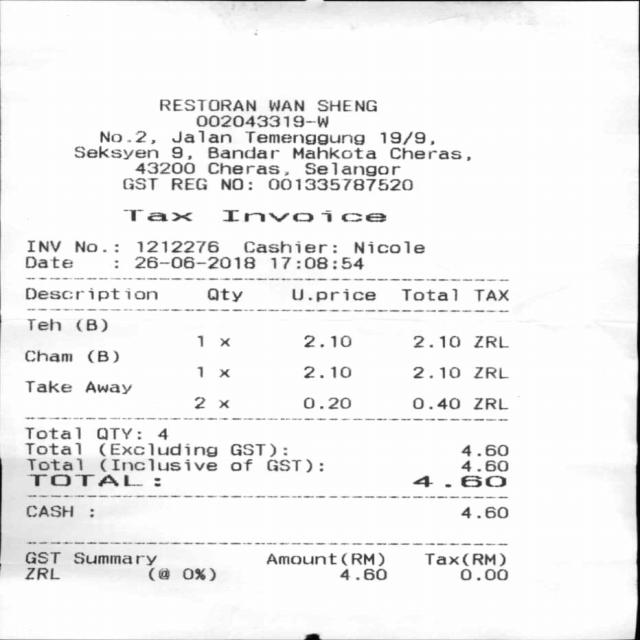text: (222, 209, 384, 222), (196, 114, 327, 128), (244, 130, 363, 145), (23, 288, 158, 301), (99, 442, 216, 457), (267, 178, 411, 190), (100, 458, 216, 472), (267, 552, 383, 566), (26, 474, 159, 486), (134, 256, 255, 269), (305, 161, 399, 176), (158, 98, 254, 111), (388, 146, 469, 161), (73, 145, 157, 159), (73, 551, 155, 565), (423, 552, 504, 566), (412, 475, 505, 487), (243, 241, 335, 253), (271, 256, 363, 268), (292, 146, 375, 159), (293, 288, 374, 301), (207, 162, 287, 175), (136, 240, 218, 252), (121, 208, 191, 222), (353, 240, 424, 253), (228, 442, 286, 457), (207, 146, 278, 158), (266, 458, 322, 472), (99, 130, 154, 144), (171, 130, 230, 143), (380, 130, 432, 144), (316, 100, 376, 112), (400, 288, 460, 300), (26, 457, 81, 470), (134, 162, 193, 174), (25, 426, 79, 439), (24, 442, 80, 454), (412, 334, 458, 348), (26, 504, 72, 518), (23, 349, 71, 362), (84, 381, 130, 394), (303, 396, 349, 409), (411, 366, 459, 378), (411, 398, 459, 410), (24, 256, 71, 268), (460, 444, 507, 456), (460, 460, 507, 472), (460, 506, 507, 518), (304, 335, 350, 347), (303, 366, 349, 378), (24, 380, 70, 392), (339, 568, 385, 580), (458, 569, 506, 580), (206, 287, 240, 302), (95, 426, 132, 439), (189, 396, 229, 408), (170, 177, 206, 190), (472, 335, 508, 348), (23, 551, 59, 564), (23, 567, 58, 580), (182, 567, 214, 581), (122, 177, 156, 190), (267, 99, 303, 111), (472, 288, 508, 300), (76, 318, 106, 332), (472, 366, 507, 378), (472, 398, 507, 410), (219, 177, 251, 190), (27, 240, 60, 252), (27, 318, 60, 330), (196, 335, 229, 347), (86, 350, 118, 362), (196, 366, 228, 377), (74, 240, 98, 252), (148, 566, 168, 580), (171, 146, 190, 160), (228, 459, 250, 471), (157, 429, 170, 439), (89, 508, 92, 518)
